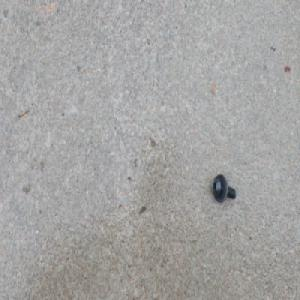BoltWasher: (212, 172, 237, 203)
